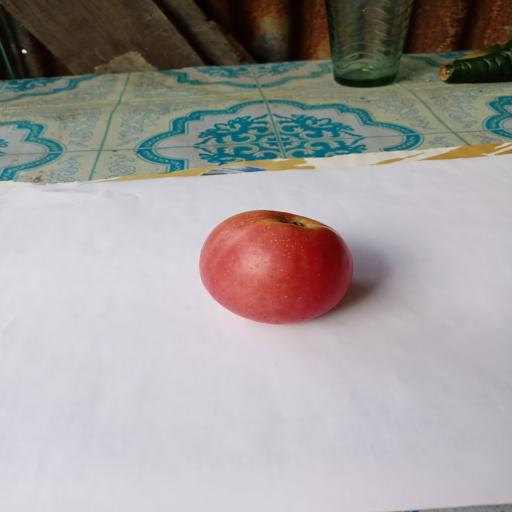apple-ripe: (191, 201, 363, 332)
